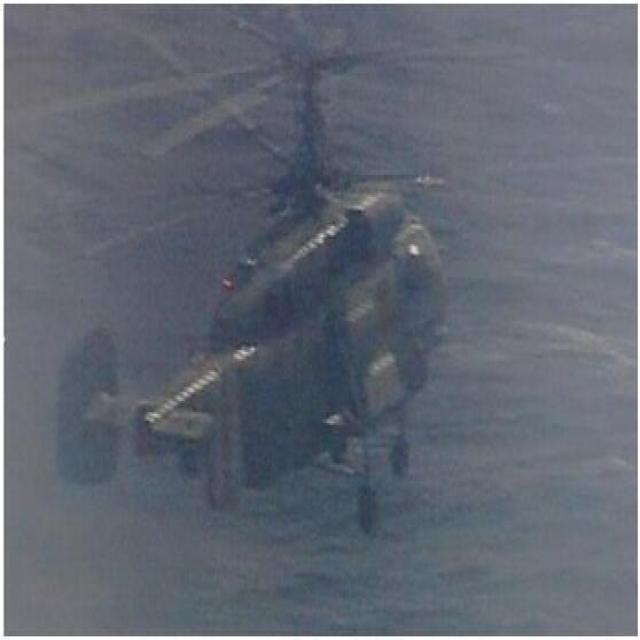MIL_HELO: (26, 12, 500, 546)
